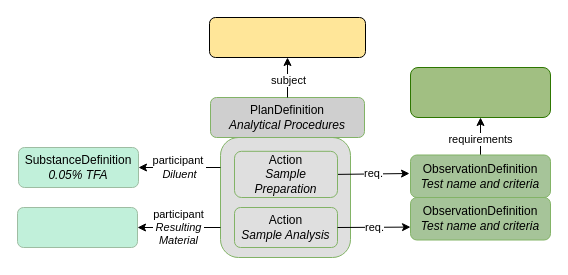
This 568x275 diagram has some shape labels left out. Here are the shapes that lost their labels. From the top down, the centre of each, then its label:
At [287,37]: "MedicinalProductDefinition Stelbat Tablets, 20mg".
At [480,92]: "SpecimenDefinition - Storage conditions and duration".
At [77,227]: "SubstanceDefinition Stelbatalol in Diluent".
